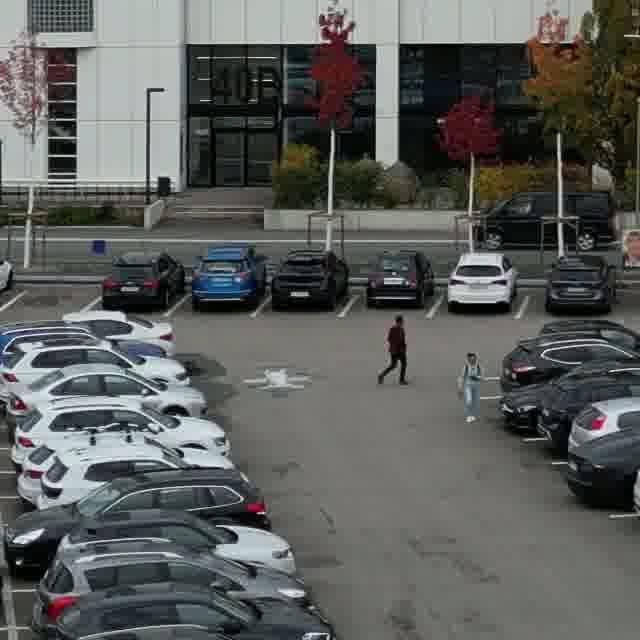Drohne: (245, 367, 310, 393)
